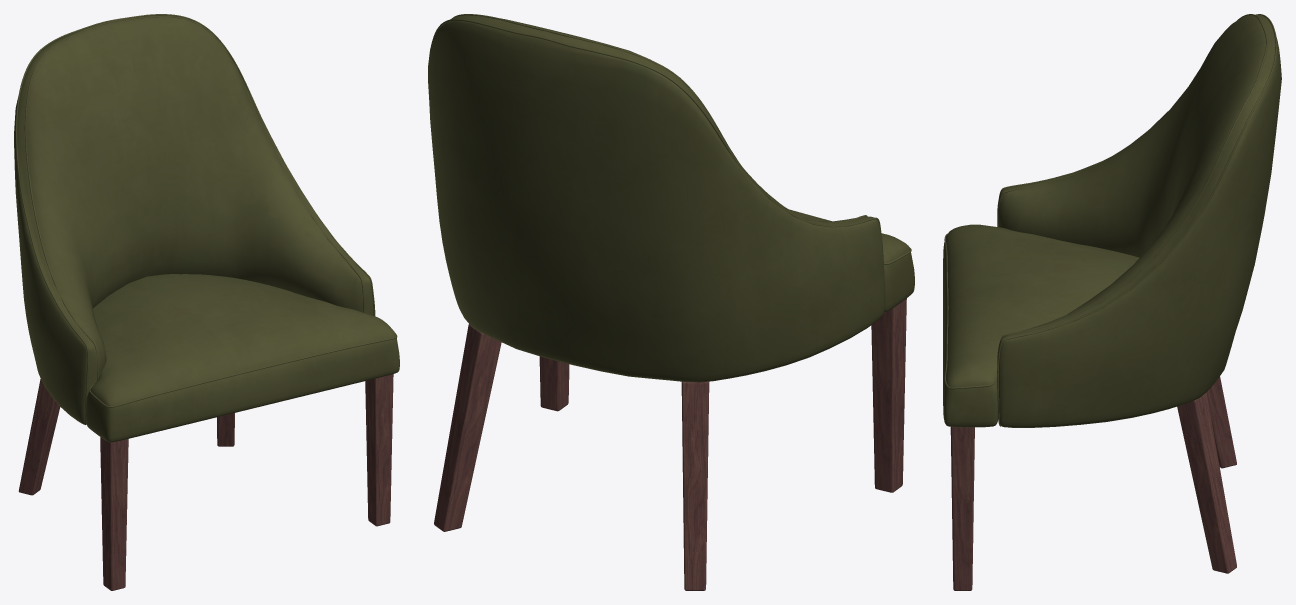
File: B07QGWLBBC.glb
The picture shows the model from 3 angles, left to right: view 1: azimuth 30°, elevation 25°; view 2: azimuth 150°, elevation 25°; view 3: azimuth 270°, elevation 25°; orthographic projection. The views are drawn at different scales.
Visible parts, largest first — view 1: RootNode; view 2: RootNode; view 3: RootNode.
Part boxes in pixels (box(x1,y1,x2,y2)): RootNode: box(14, 14, 399, 590); RootNode: box(428, 14, 914, 590); RootNode: box(943, 14, 1281, 590).
Bounding box in the file's own units: 0.6433 × 0.8895 × 0.5753.
Materials: 1 (1 with a texture image).
